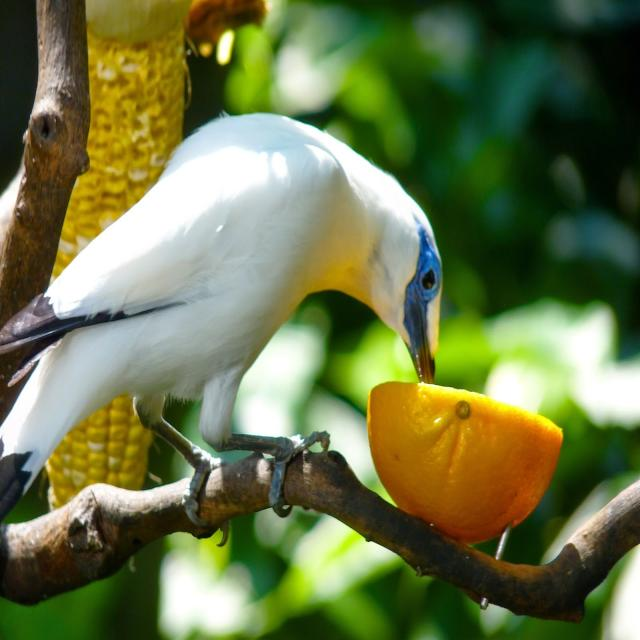Jalak Bali: (0, 85, 459, 560)
